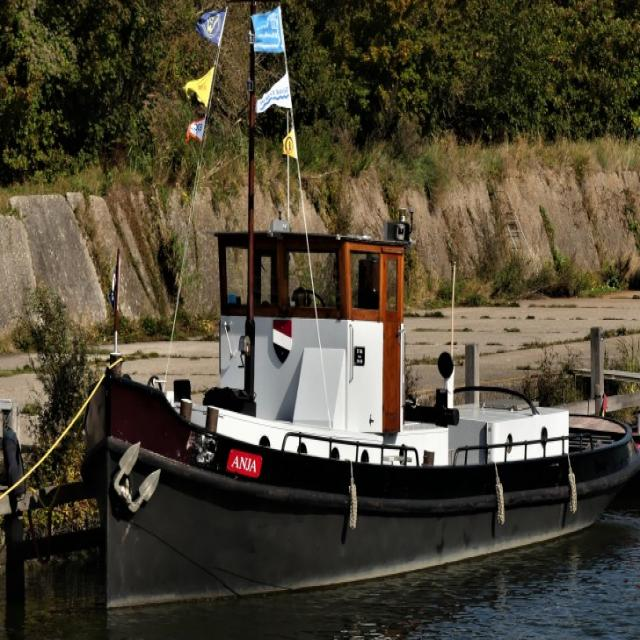tugboat: (79, 204, 640, 626)
